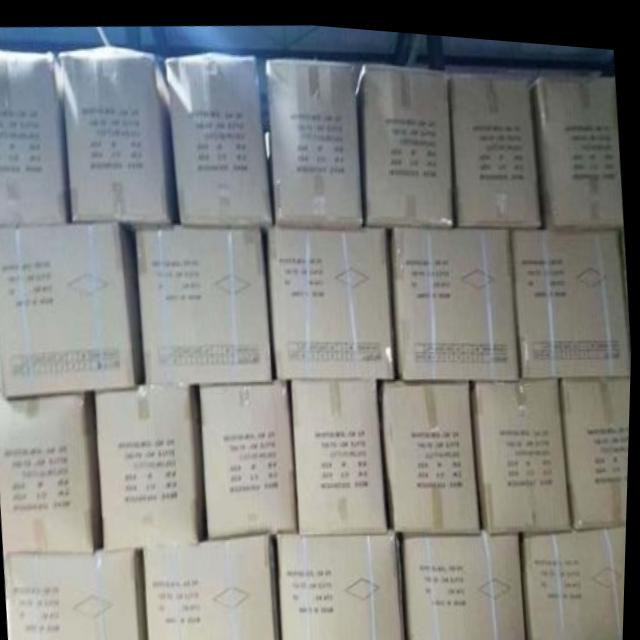box: (0, 217, 146, 395), (134, 221, 274, 385), (59, 43, 181, 222), (269, 221, 397, 376), (393, 221, 522, 373), (96, 378, 210, 548), (165, 48, 274, 221), (510, 220, 633, 367), (0, 391, 107, 552), (265, 53, 364, 222), (469, 366, 574, 522), (200, 376, 301, 537), (355, 59, 451, 223), (384, 372, 484, 529), (144, 529, 284, 640), (448, 69, 547, 222), (293, 373, 391, 526), (281, 526, 410, 640), (530, 67, 625, 221), (406, 523, 529, 640), (521, 512, 629, 640), (12, 544, 151, 640), (0, 50, 72, 224), (560, 366, 632, 520)
